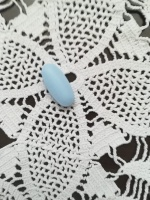Apranax: (40, 62, 77, 110)
